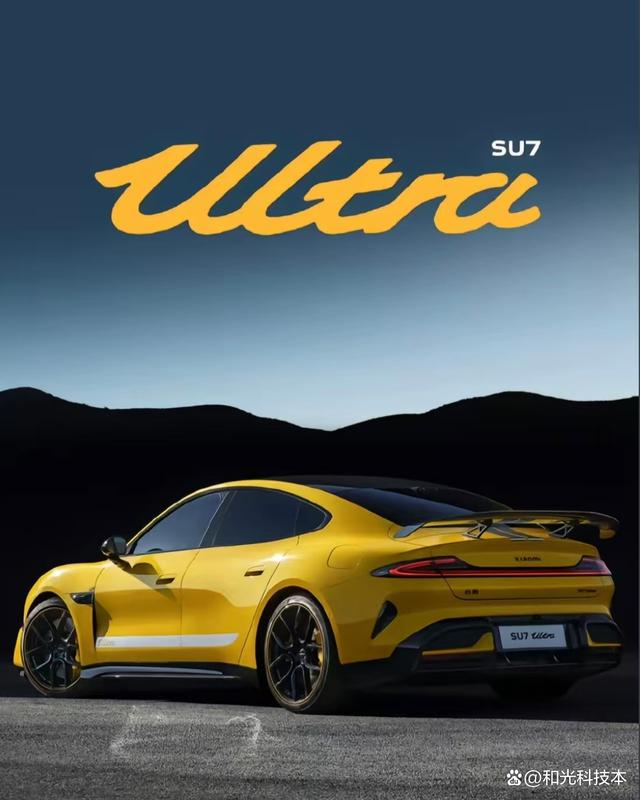su7: (12, 477, 620, 719)
